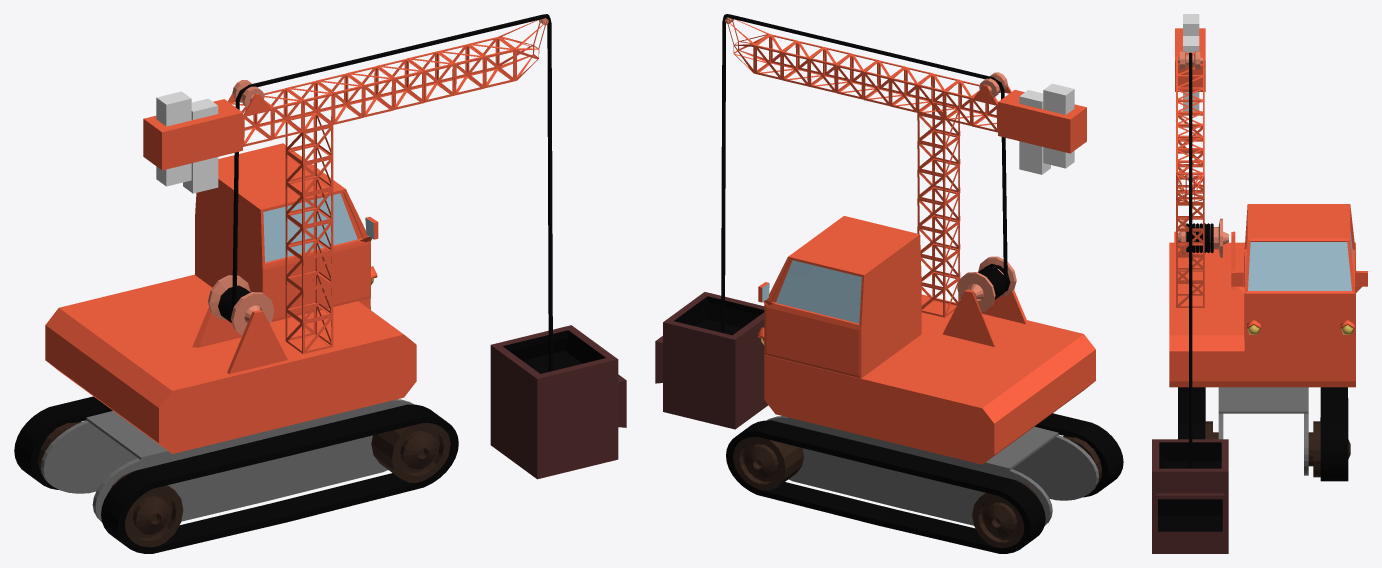
Rendered from Iron Mining Machine.fbx.
3 renders of one model, left to right at view 1: azimuth 30°, elevation 25°; view 2: azimuth 150°, elevation 25°; view 3: azimuth 270°, elevation 25°, orthographic. The views are drawn at different scales.
Visible parts, largest first — view 1: Upper_Machine, Base, Mining_box, Left_rotator, Thread, Back_Wheel.001, Left_rotator.001, Back_Wheel, Big_Pully.001; view 2: Upper_Machine, Base, Mining_box, Left_rotator.001, Thread, Back_Wheel.002, Left_rotator, Back_Wheel.003, Big_Pully.001; view 3: Upper_Machine, Mining_box, Base, Left_rotator.001, Thread, Left_rotator, Back_Wheel.002, Big_Pully.001, Big_Pully.
Boxes of the visible parts, <box> form: Upper_Machine: <box>45,20,546,453</box>; Base: <box>40,399,414,521</box>; Mining_box: <box>490,325,626,479</box>; Left_rotator: <box>101,404,458,553</box>; Thread: <box>218,14,552,371</box>; Back_Wheel.001: <box>371,406,450,482</box>; Left_rotator.001: <box>14,396,112,489</box>; Back_Wheel: <box>109,471,183,547</box>; Big_Pully.001: <box>208,275,274,335</box>; Upper_Machine: <box>726,19,1095,464</box>; Base: <box>766,416,1099,525</box>; Mining_box: <box>655,292,768,429</box>; Left_rotator.001: <box>726,420,1045,553</box>; Thread: <box>721,14,1010,333</box>; Back_Wheel.002: <box>733,437,803,490</box>; Left_rotator: <box>1035,413,1123,497</box>; Back_Wheel.003: <box>972,480,1038,547</box>; Big_Pully.001: <box>957,256,1016,311</box>; Upper_Machine: <box>1169,14,1367,387</box>; Mining_box: <box>1152,439,1228,553</box>; Base: <box>1218,387,1308,475</box>; Left_rotator.001: <box>1320,387,1348,481</box>; Thread: <box>1186,52,1213,468</box>; Left_rotator: <box>1178,387,1205,439</box>; Back_Wheel.002: <box>1308,421,1350,477</box>; Big_Pully.001: <box>1178,218,1228,257</box>; Big_Pully: <box>1178,51,1202,69</box>.
Size of the model in its own units: 1223 by 1055 by 563.
